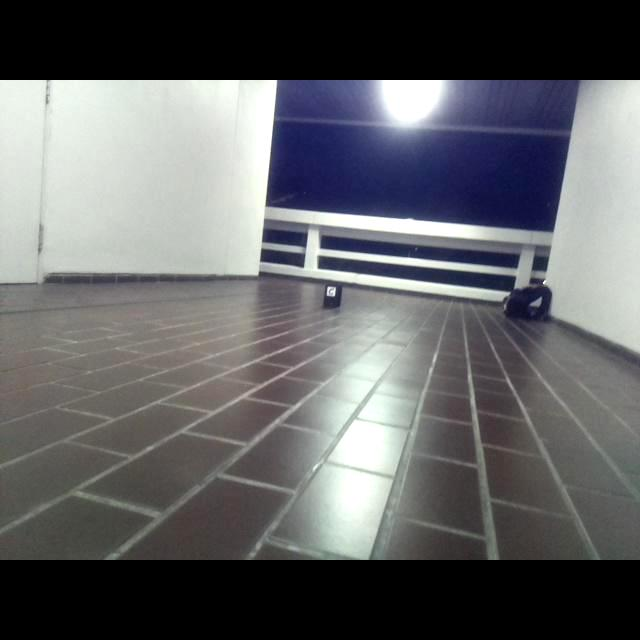C: (326, 287, 336, 296)
